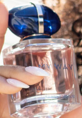armani_my_way_floral: (3, 7, 78, 114)
